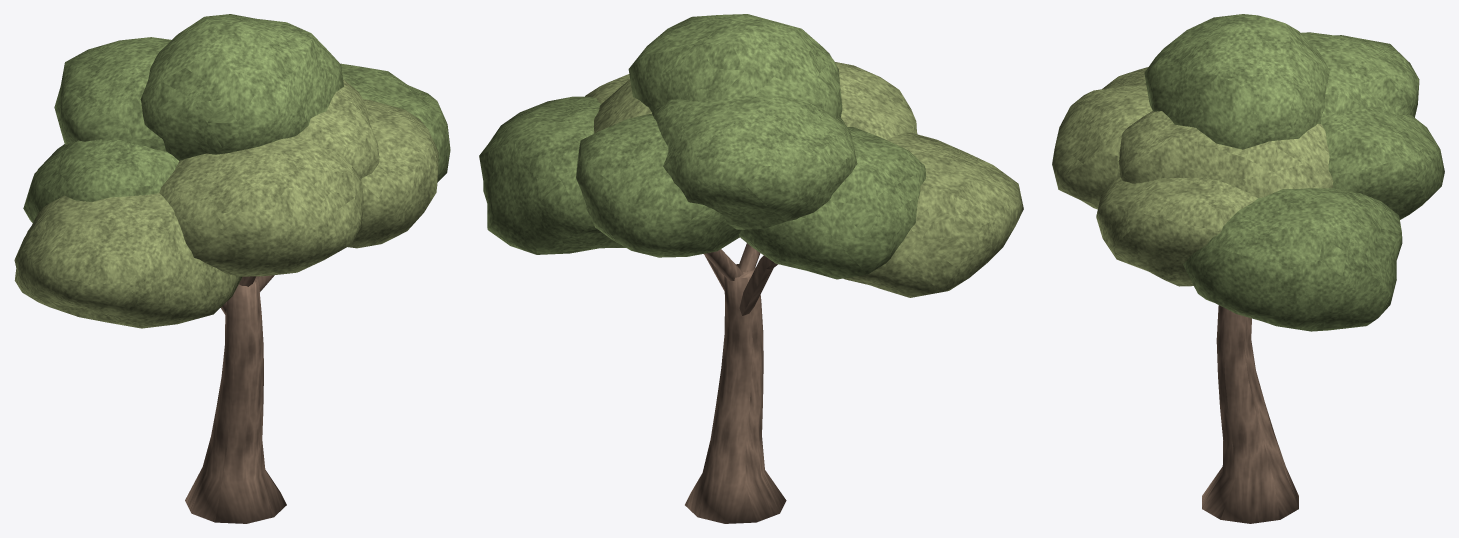
File: tree_algarrobo.glb
3 views of the same model, side by side, from view 1: azimuth 30°, elevation 25°; view 2: azimuth 150°, elevation 25°; view 3: azimuth 270°, elevation 25° (orthographic).
Parts seen in each view (by area): view 1: tree_algarrobo_geometry; view 2: tree_algarrobo_geometry; view 3: tree_algarrobo_geometry.
Boxes of the visible parts, bbox=[...] form: tree_algarrobo_geometry: bbox=[14, 14, 450, 523]; tree_algarrobo_geometry: bbox=[479, 14, 1023, 523]; tree_algarrobo_geometry: bbox=[1052, 14, 1444, 523].
Bounding box in the file's own units: 6.29 × 6.34 × 4.72.
3 materials, 3 textured.
